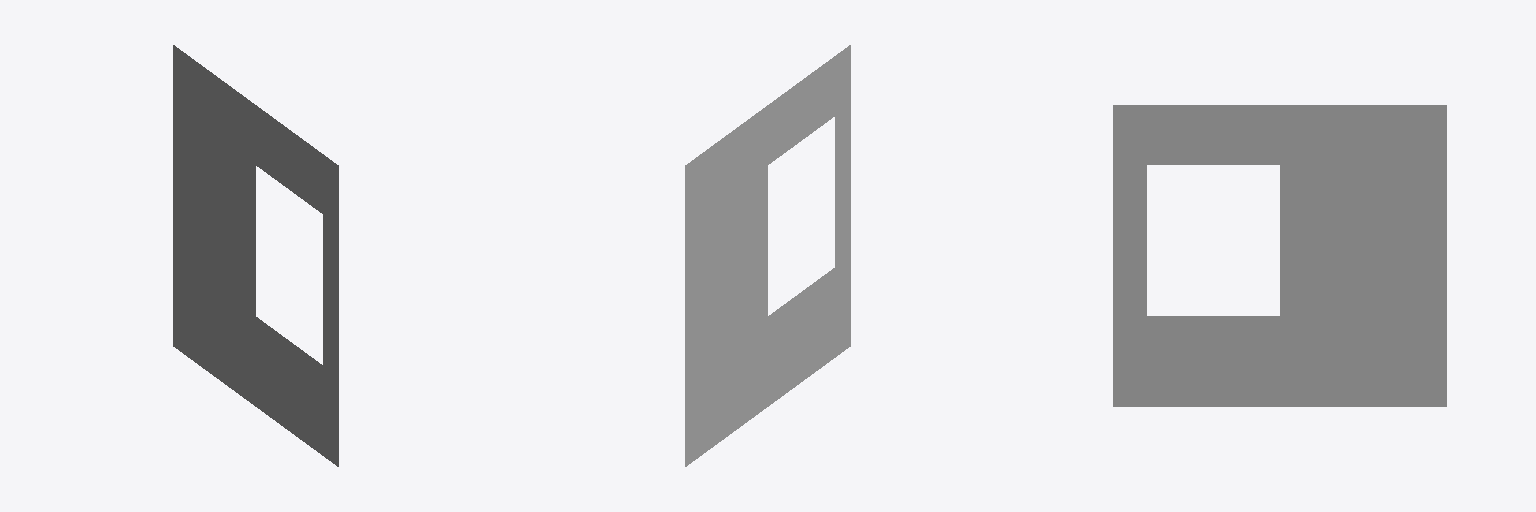
Rendered from wall.obj.
The picture shows the model from 3 angles: view 1: azimuth 30°, elevation 25°; view 2: azimuth 150°, elevation 25°; view 3: azimuth 270°, elevation 25°; orthographic projection.
Visible parts, largest first — view 1: Plane; view 2: Plane; view 3: Plane.
Part boxes in pixels (x1,y1,x2,y2): Plane: (173,45,338,466); Plane: (685,45,850,466); Plane: (1113,105,1446,406).
Size of the model in its own units: 0 by 10 by 10.